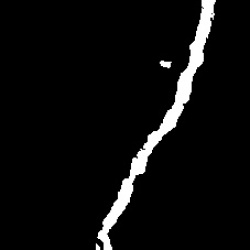crack: (97, 2, 216, 249), (161, 60, 173, 68)
